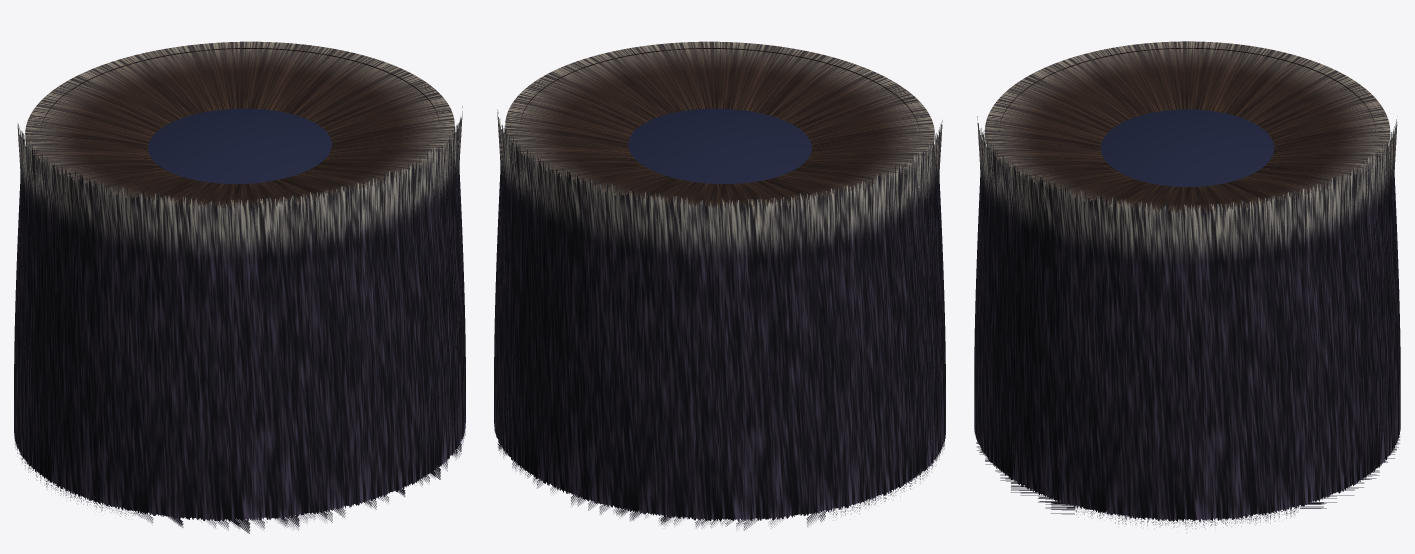
File: fur_hat.glb
3 renders of one model, left to right at view 1: azimuth 30°, elevation 25°; view 2: azimuth 150°, elevation 25°; view 3: azimuth 270°, elevation 25°, orthographic.
Parts seen in each view (by area): view 1: FurHat; view 2: FurHat; view 3: FurHat.
Part boxes in pixels (bbox=[...]): FurHat: bbox=[14, 41, 465, 533]; FurHat: bbox=[494, 41, 945, 530]; FurHat: bbox=[974, 41, 1400, 528].
Bounding box in the file's own units: 1 × 0.8233 × 0.945.
Materials: 6 (4 with a texture image).
